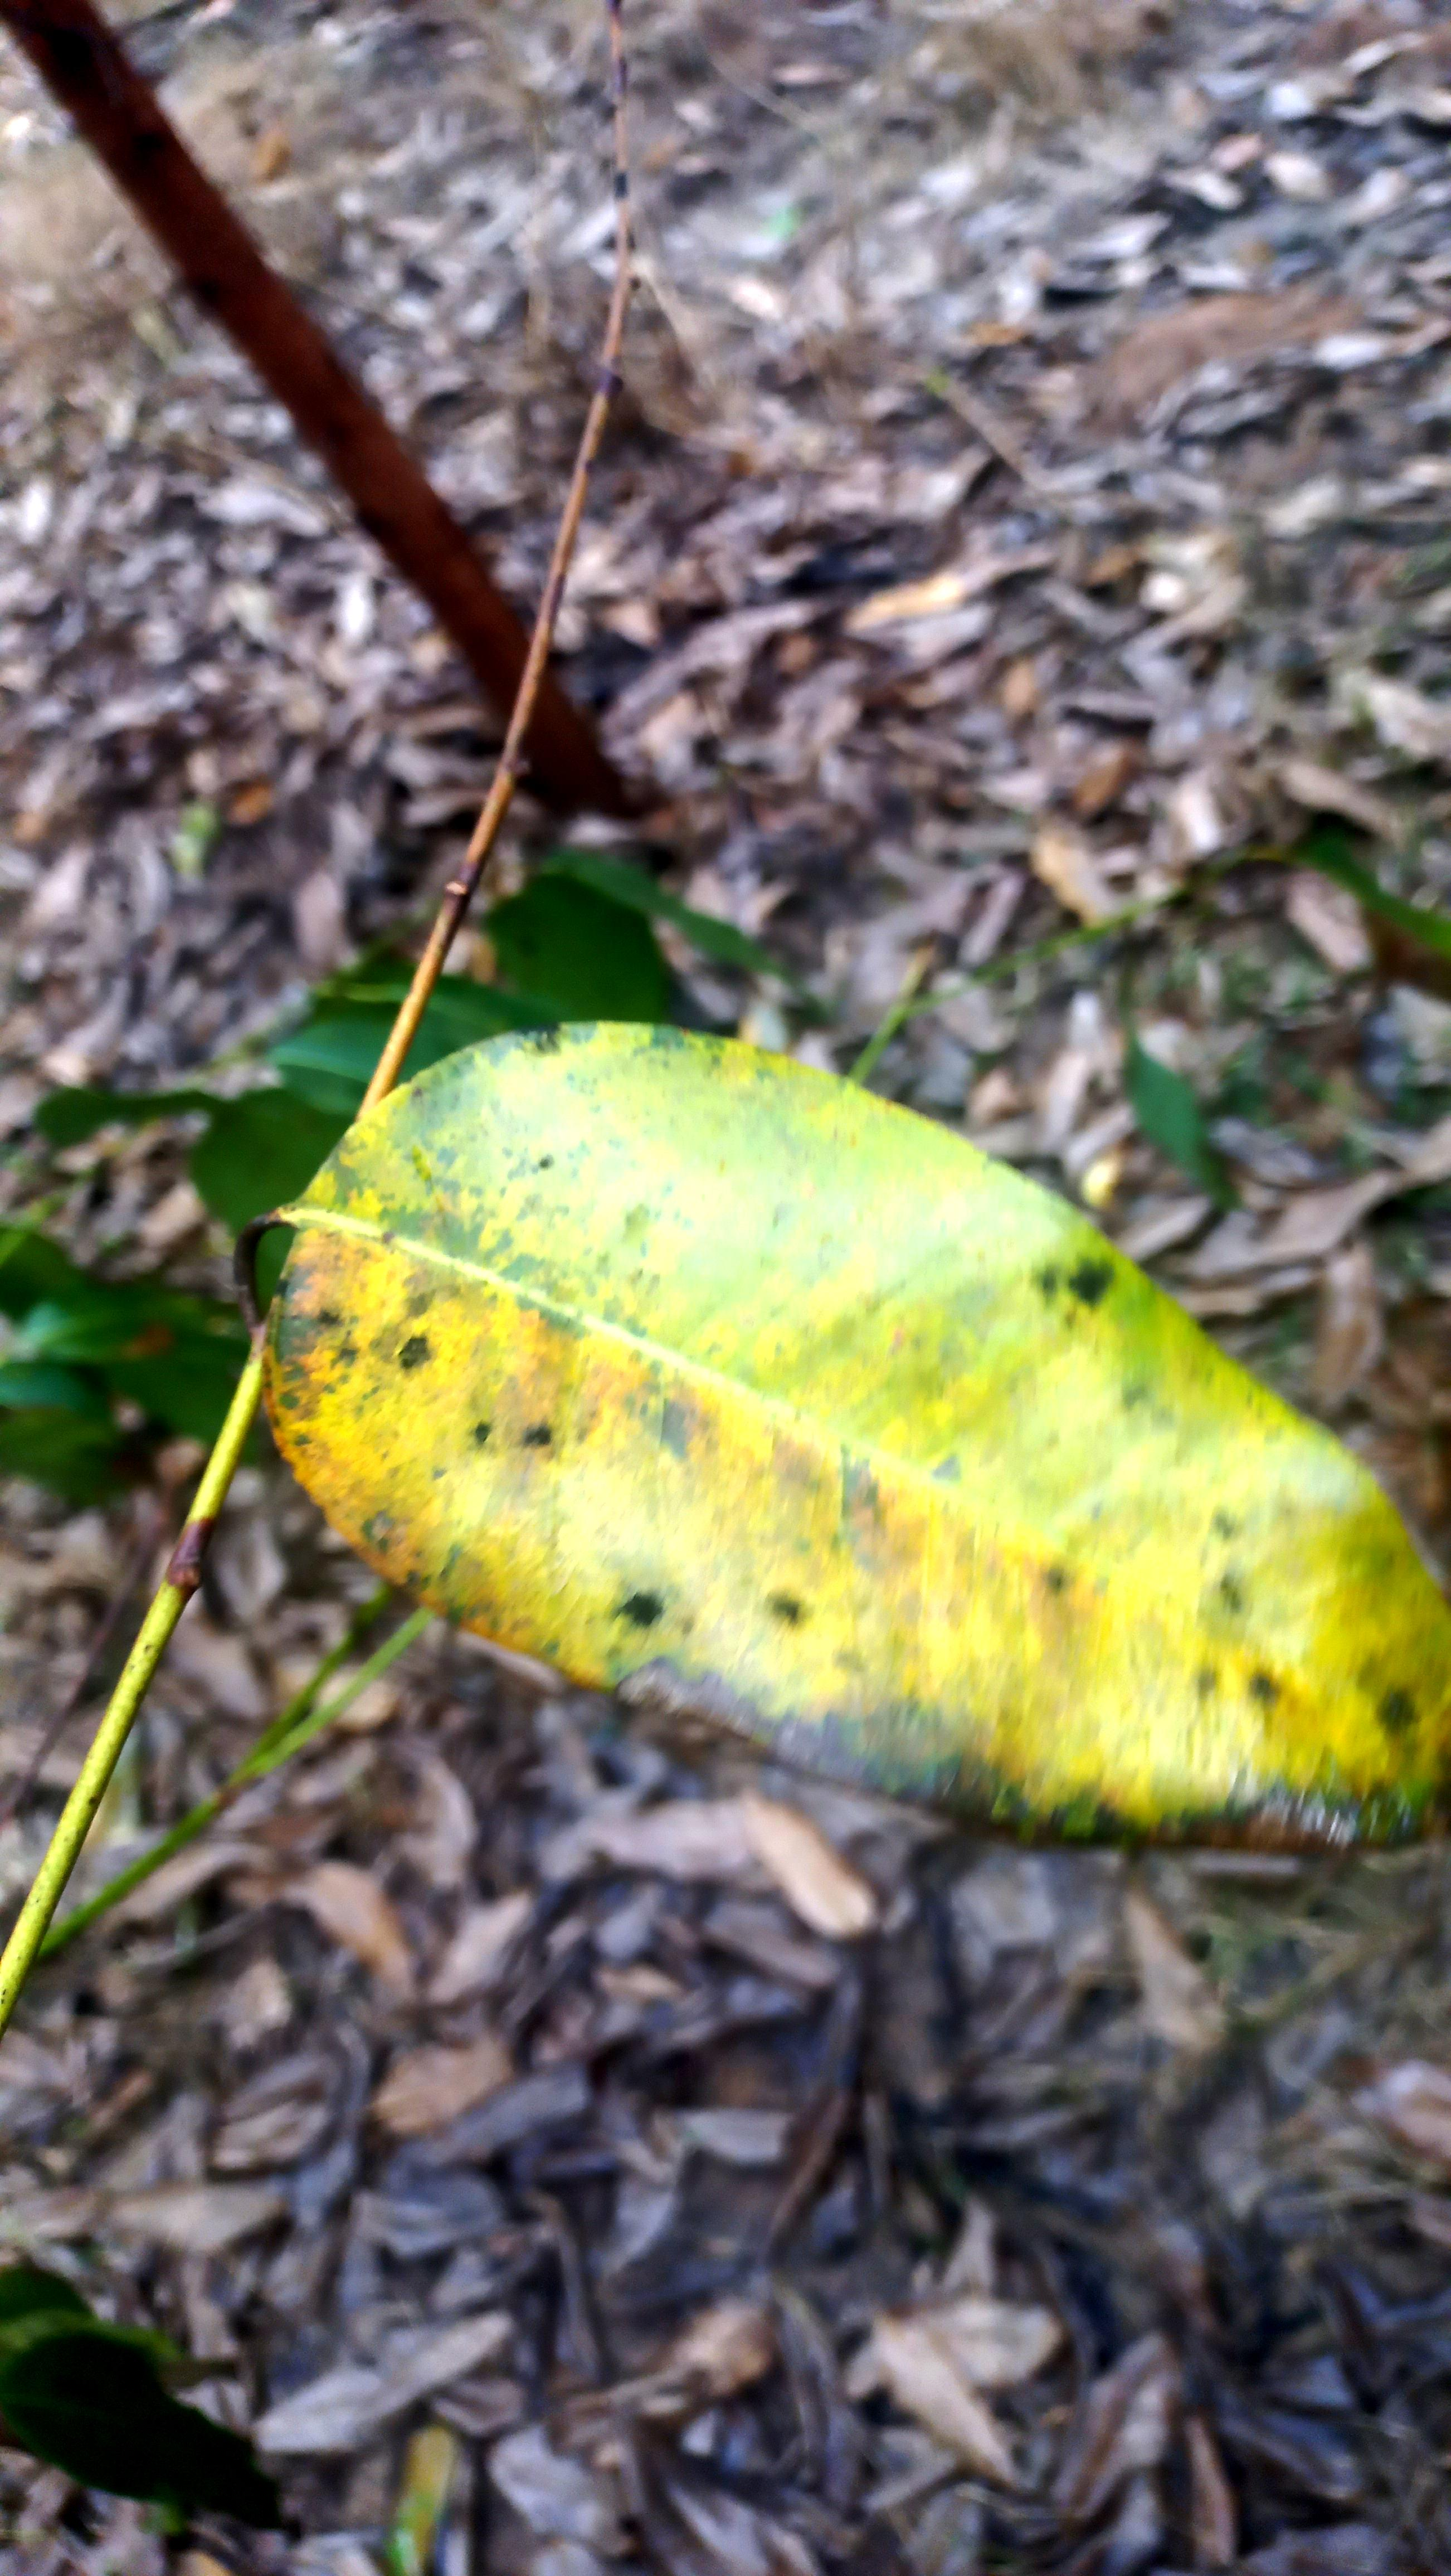Cylindrocladium: (600, 1647, 1451, 1886)
Embun Jelaga: (241, 961, 1444, 1764)
